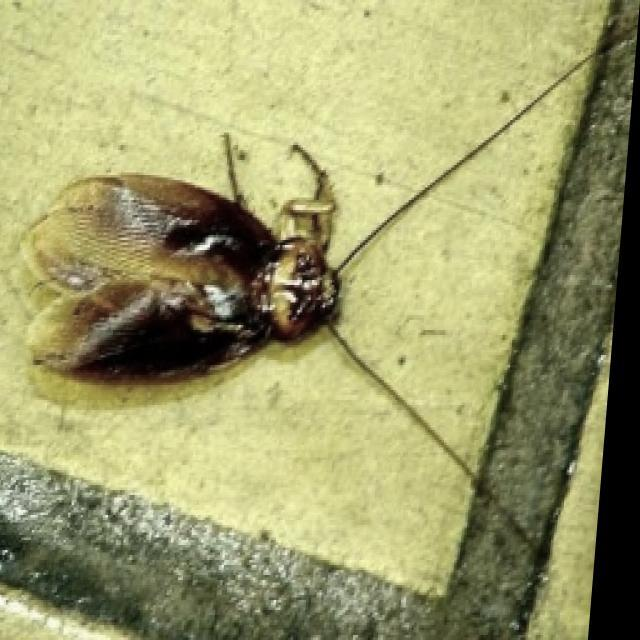cockroach: (15, 130, 348, 395)
